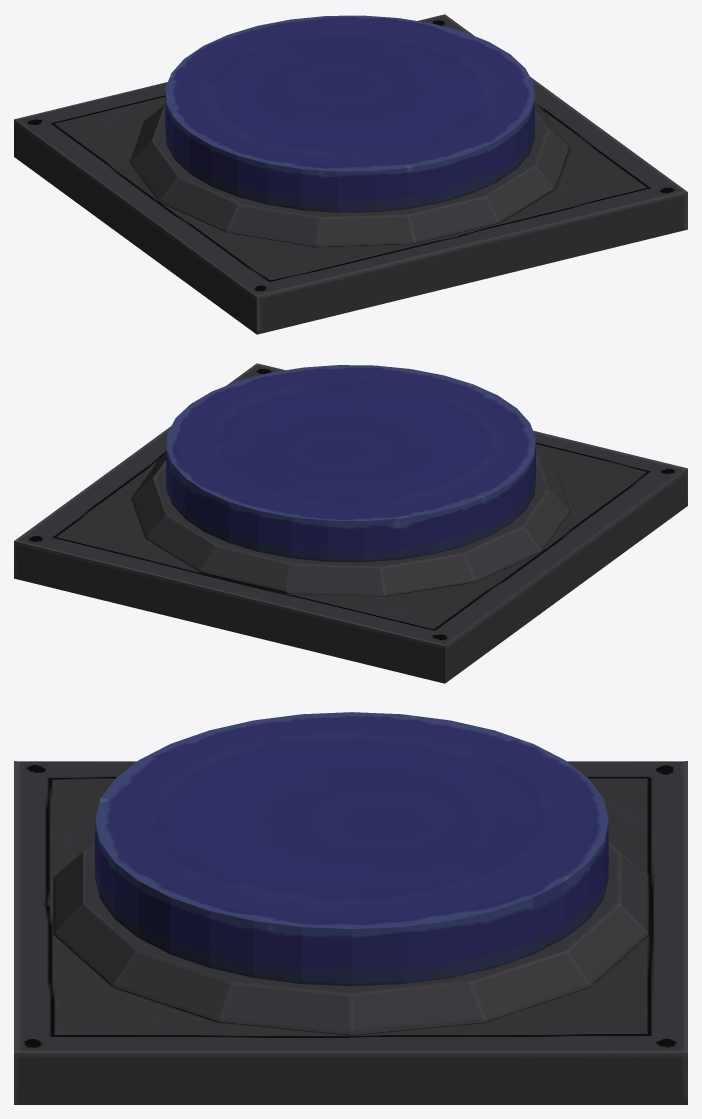
File: button.glb
3 views of the same model, one above another, from view 1: azimuth 30°, elevation 25°; view 2: azimuth 150°, elevation 25°; view 3: azimuth 270°, elevation 25° (orthographic). The views are drawn at different scales.
Parts seen in each view (by area): view 1: Object_2; view 2: Object_2; view 3: Object_2.
Boxes of the visible parts, left/top/right/bottom form: Object_2: left=14, top=14, right=687, bottom=334; Object_2: left=14, top=363, right=687, bottom=683; Object_2: left=14, top=712, right=687, bottom=1104.
Size of the model in its own units: 1.28 by 0.2823 by 1.25.
1 material, 1 textured.
